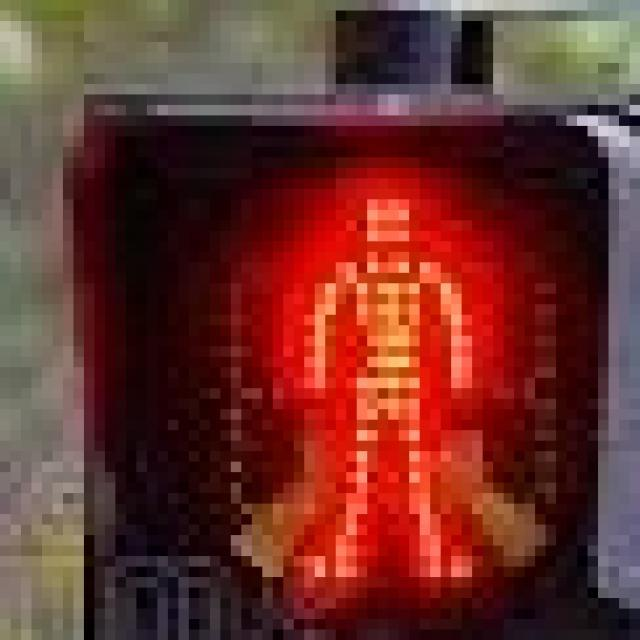red_light: (230, 146, 514, 608)
